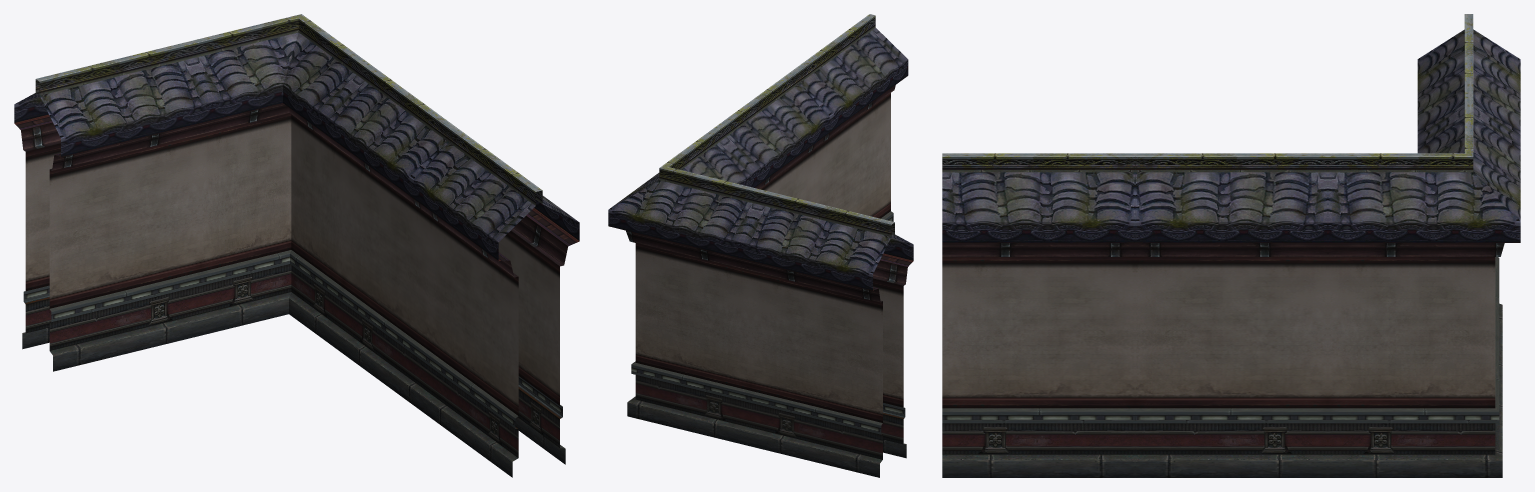
Rendered from HYC_weiqiang_02.FBX.
The picture shows the model from 3 angles, left to right: view 1: azimuth 30°, elevation 25°; view 2: azimuth 150°, elevation 25°; view 3: azimuth 270°, elevation 25°; orthographic projection. The views are drawn at different scales.
Visible parts, largest first — view 1: HYC_weiqiang_02; view 2: HYC_weiqiang_02; view 3: HYC_weiqiang_02.
Boxes of the visible parts, x1,y1,x2,y2 form: HYC_weiqiang_02: [14, 14, 579, 477]; HYC_weiqiang_02: [608, 14, 913, 477]; HYC_weiqiang_02: [942, 14, 1520, 477].
Size of the model in its own units: 448 by 396 by 673.
